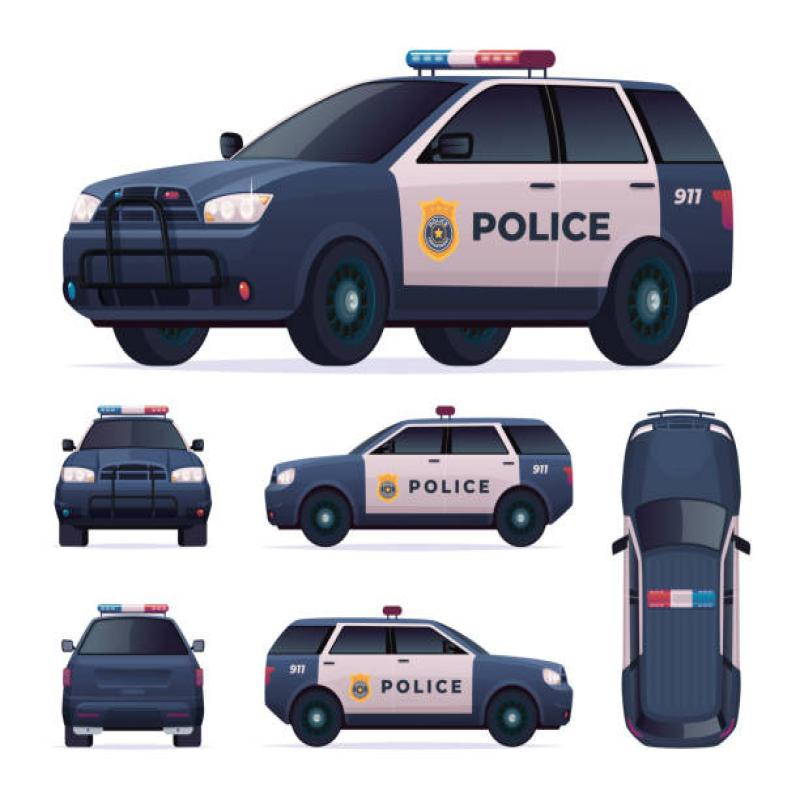AmbulanceSiren: (368, 30, 561, 92)
